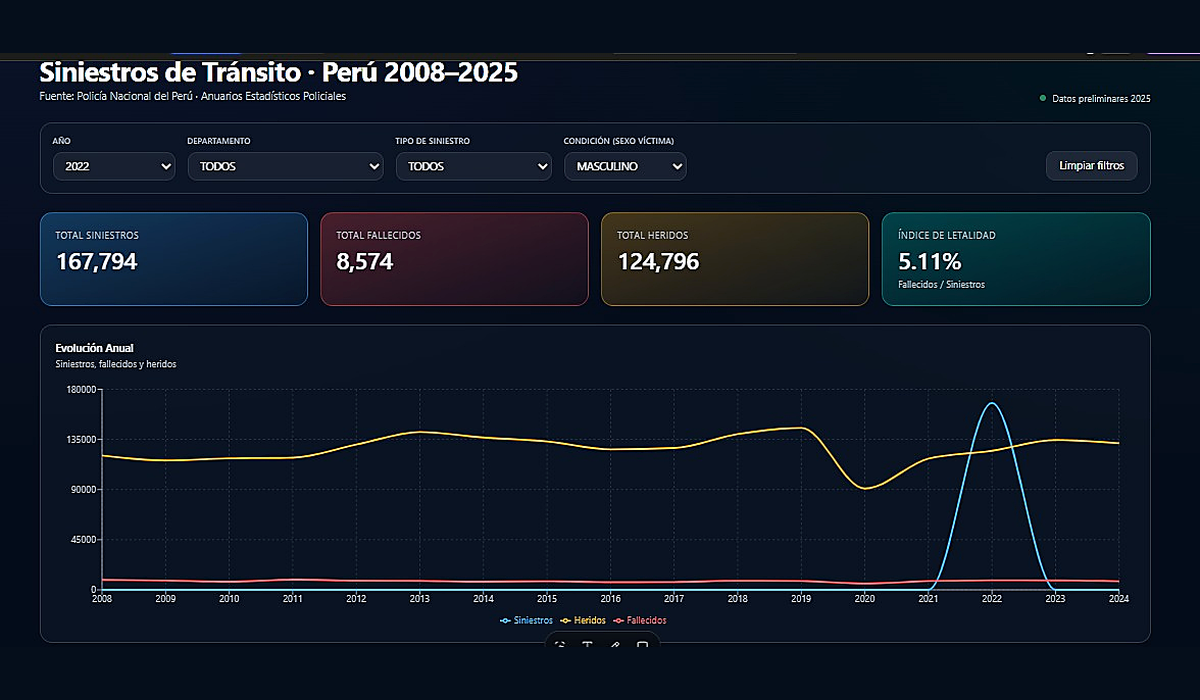

The page's visual inventory and layout, read from the dashboard file:
{"tool":"powerbi","page":{"name":"Página 1","canvas":[1280,720],"ordinal":0},"visuals":[{"type":"shape","box":[144,96,1136,625],"z":0},{"type":"shape","box":[939.9,620.7,22.4,14.7],"z":0,"group":"g1"},{"type":"shape","box":[0,0,1280,95],"z":1000},{"type":"shape","box":[960.9,620.7,22.4,14.7],"z":1000,"group":"g1"},{"type":"textbox","box":[208,32,1072,160],"z":2000},{"type":"shape","box":[982,620.7,22.4,14.7],"z":2000,"group":"g1"},{"type":"shape","box":[0,96,144,624],"z":3000},{"type":"shape","box":[1003.1,620.7,22.4,14.7],"z":3000,"group":"g1"},{"type":"textbox","box":[40,128,128,64],"z":4000},{"type":"shape","box":[1024.2,620.7,22.4,14.7],"z":4000,"group":"g1"},{"type":"textbox","box":[40,192,128,64],"z":5000},{"type":"shape","box":[1045.3,620.7,22.4,14.7],"z":5000,"group":"g1"},{"type":"textbox","box":[40,256,128,64],"z":6000},{"type":"textbox","box":[898.2,628.7,232,56],"z":6000,"group":"g1"},{"type":"textbox","box":[40,320,128,64],"z":7000},{"type":"textbox","box":[40,384,128,64],"z":8000},{"type":"textbox","box":[40,448,128,64],"z":9000},{"type":"textbox","box":[40,512,128,64],"z":10000},{"type":"shape","box":[0,120,16,48],"z":11000},{"type":"slicer","fields":{"Values":["Fact_Siniestros_Region.Año"]},"box":[160,104,240,64],"z":12000},{"type":"slicer","fields":{"Values":["Fact_Siniestros_Region.DEPARTAMENTO"]},"box":[472,104,208,64],"z":13000},{"type":"slicer","fields":{"Values":["Fact_Siniestros_Tipo.Tipo_Siniestro"]},"box":[752,104,224,64],"z":14000},{"type":"slicer","fields":{"Values":["Fact_Victimas.Condicion"]},"box":[1056,104,208,64],"z":15000},{"type":"cardVisual","fields":{"Data":["Fact_Siniestros_Region.Total Fallecidos"]},"box":[432,176,256,96],"z":16000},{"type":"cardVisual","fields":{"Data":["Fact_Siniestros_Region.Total Siniestros"]},"box":[160,176,264,96],"z":17000},{"type":"cardVisual","fields":{"Data":["Fact_Siniestros_Region.Total Heridos"]},"box":[704,176,272,96],"z":18000},{"type":"cardVisual","fields":{"Data":["Fact_Siniestros_Region.Regiones Reportadas"]},"box":[1008,176,272,96],"z":19000},{"type":"lineChart","title":"       Evolución anual de siniestros","fields":{"Category":["Fact_Siniestros_Region.Año"],"Y":["Sum(Fact_Siniestros_Region.Total_Siniestros)"]},"box":[160,280,432,176],"z":20000},{"type":"azureMap","title":"Distribución geográfica de siniestros","fields":{"Category":["Fact_Siniestros_Region.Ubicacion_Mapa"],"Size":["Fact_Siniestros_Region.Total Siniestros"]},"box":[608,280,288,208],"z":21000},{"type":"clusteredBarChart","title":"Top departamentos con más siniestros","fields":{"Category":["Fact_Siniestros_Region.Departamento"],"Y":["Fact_Siniestros_Region.Total Siniestros"]},"box":[912,280,352,208],"z":22000},{"type":"donutChart","title":"Tipo de siniestro","fields":{"Category":["Fact_Siniestros_Tipo.Tipo_Siniestro"],"Y":["Sum(Fact_Siniestros_Tipo.Cantidad)"]},"box":[160,464,304,224],"z":23000},{"type":"pivotTable","title":"Comparativo mensual de siniestros 2023-2025","fields":{"Rows":["Fact_Siniestros_Mensual.Año"],"Values":["Sum(Fact_Siniestros_Mensual.Siniestros)"],"Columns":["Dim_Meses.Mes_Corto"]},"box":[786.2,492.7,480,176],"z":24000},{"type":"columnChart","title":"Fallecidos y heridos por año","fields":{"Category":["Fact_Victimas.Año"],"Series":["Fact_Victimas.Condicion"],"Y":["Sum(Fact_Victimas.Cantidad)"]},"box":[472,496,304,192],"z":25000},{"type":"group","id":"g1","title":"Grupo 1","box":[898.2,620.7,232,64],"z":26000},{"type":"shape","box":[176,16,16,64],"z":27000},{"type":"image","box":[192,280,32,32],"z":28000},{"type":"image","box":[320,112,96,48],"z":29000},{"type":"image","box":[832,280,48,48],"z":30000},{"type":"image","box":[624,112,64,48],"z":31000},{"type":"image","box":[800,8,480,88],"z":32000},{"type":"image","box":[912,104,53,61],"z":33000},{"type":"image","box":[1208,112,48,56],"z":34000},{"type":"image","box":[728,480,48,64],"z":35000},{"type":"image","box":[912,272,32,48],"z":36000},{"type":"image","box":[8,152,32,112],"z":37000},{"type":"image","box":[0,416,40,96],"z":38000},{"type":"image","box":[0,496,40,64],"z":39000},{"type":"image","box":[0,248,45,45],"z":40000},{"type":"image","box":[8,128,32,32],"z":41000},{"type":"image","box":[0,352,42,85],"z":42000},{"type":"image","box":[8,304,40,56],"z":43000},{"type":"image","box":[272,456,72,40],"z":44000},{"type":"textbox","box":[208,8,1071,144],"z":45000},{"type":"image","box":[0,16,192,64],"z":46000}]}

Visuals, with their boxes on the page's 1280x720 design canvas (x1, y1, x2, y2). These are canvas units, not pixel positions in the 1200x700 screenshot, which may show the page scaled, cropped or inside an application window:
shape: [144,96,1280,721]
shape: [940,621,962,635]
shape: [0,0,1280,95]
shape: [961,621,983,635]
textbox: [208,32,1280,192]
shape: [982,621,1004,635]
shape: [0,96,144,720]
shape: [1003,621,1026,635]
textbox: [40,128,168,192]
shape: [1024,621,1047,635]
textbox: [40,192,168,256]
shape: [1045,621,1068,635]
textbox: [40,256,168,320]
textbox: [898,629,1130,685]
textbox: [40,320,168,384]
textbox: [40,384,168,448]
textbox: [40,448,168,512]
textbox: [40,512,168,576]
shape: [0,120,16,168]
slicer - Fact_Siniestros_Region.Año: [160,104,400,168]
slicer - Fact_Siniestros_Region.DEPARTAMENTO: [472,104,680,168]
slicer - Fact_Siniestros_Tipo.Tipo_Siniestro: [752,104,976,168]
slicer - Fact_Victimas.Condicion: [1056,104,1264,168]
cardVisual - Fact_Siniestros_Region.Total Fallecidos: [432,176,688,272]
cardVisual - Fact_Siniestros_Region.Total Siniestros: [160,176,424,272]
cardVisual - Fact_Siniestros_Region.Total Heridos: [704,176,976,272]
cardVisual - Fact_Siniestros_Region.Regiones Reportadas: [1008,176,1280,272]
"       Evolución anual de siniestros" lineChart: [160,280,592,456]
"Distribución geográfica de siniestros" azureMap: [608,280,896,488]
"Top departamentos con más siniestros" clusteredBarChart: [912,280,1264,488]
"Tipo de siniestro" donutChart: [160,464,464,688]
"Comparativo mensual de siniestros 2023-2025" pivotTable: [786,493,1266,669]
"Fallecidos y heridos por año" columnChart: [472,496,776,688]
"Grupo 1" group: [898,621,1130,685]
shape: [176,16,192,80]
image: [192,280,224,312]
image: [320,112,416,160]
image: [832,280,880,328]
image: [624,112,688,160]
image: [800,8,1280,96]
image: [912,104,965,165]
image: [1208,112,1256,168]
image: [728,480,776,544]
image: [912,272,944,320]
image: [8,152,40,264]
image: [0,416,40,512]
image: [0,496,40,560]
image: [0,248,45,293]
image: [8,128,40,160]
image: [0,352,42,437]
image: [8,304,48,360]
image: [272,456,344,496]
textbox: [208,8,1279,152]
image: [0,16,192,80]
